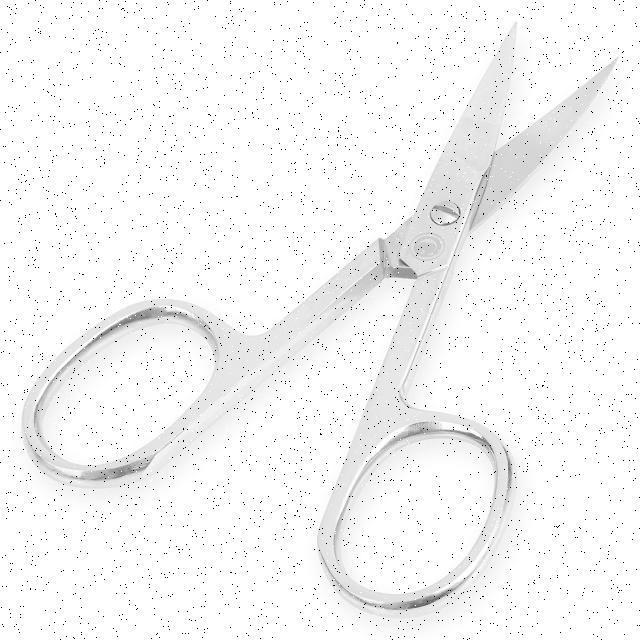scissors: (21, 13, 622, 621)
